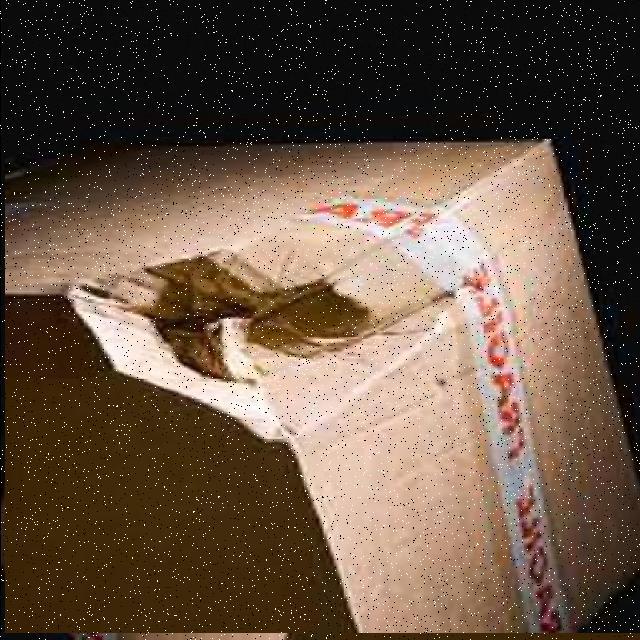defect: (4, 133, 640, 633)
